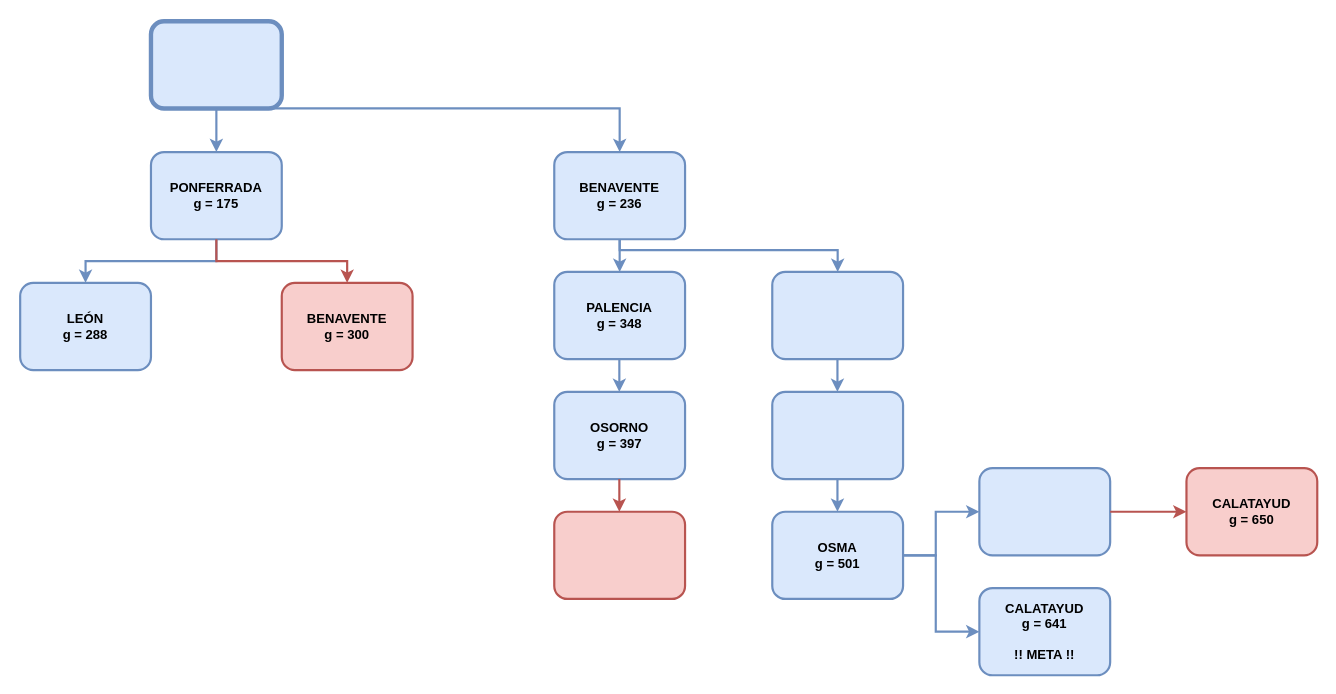
The diagram is 1336 pixels wide and 694 high, and some of its shapes have lost their labels. Here are the shapes that lost their labels. From the top down, the centre of each, then its label:
[215,64]: OURENSE
[837,315]: VALLADOLID g = 348
[837,435]: ARANDA g = 443
[1044,511]: SORIA g = 559
[619,555]: BURGOS g = 456
